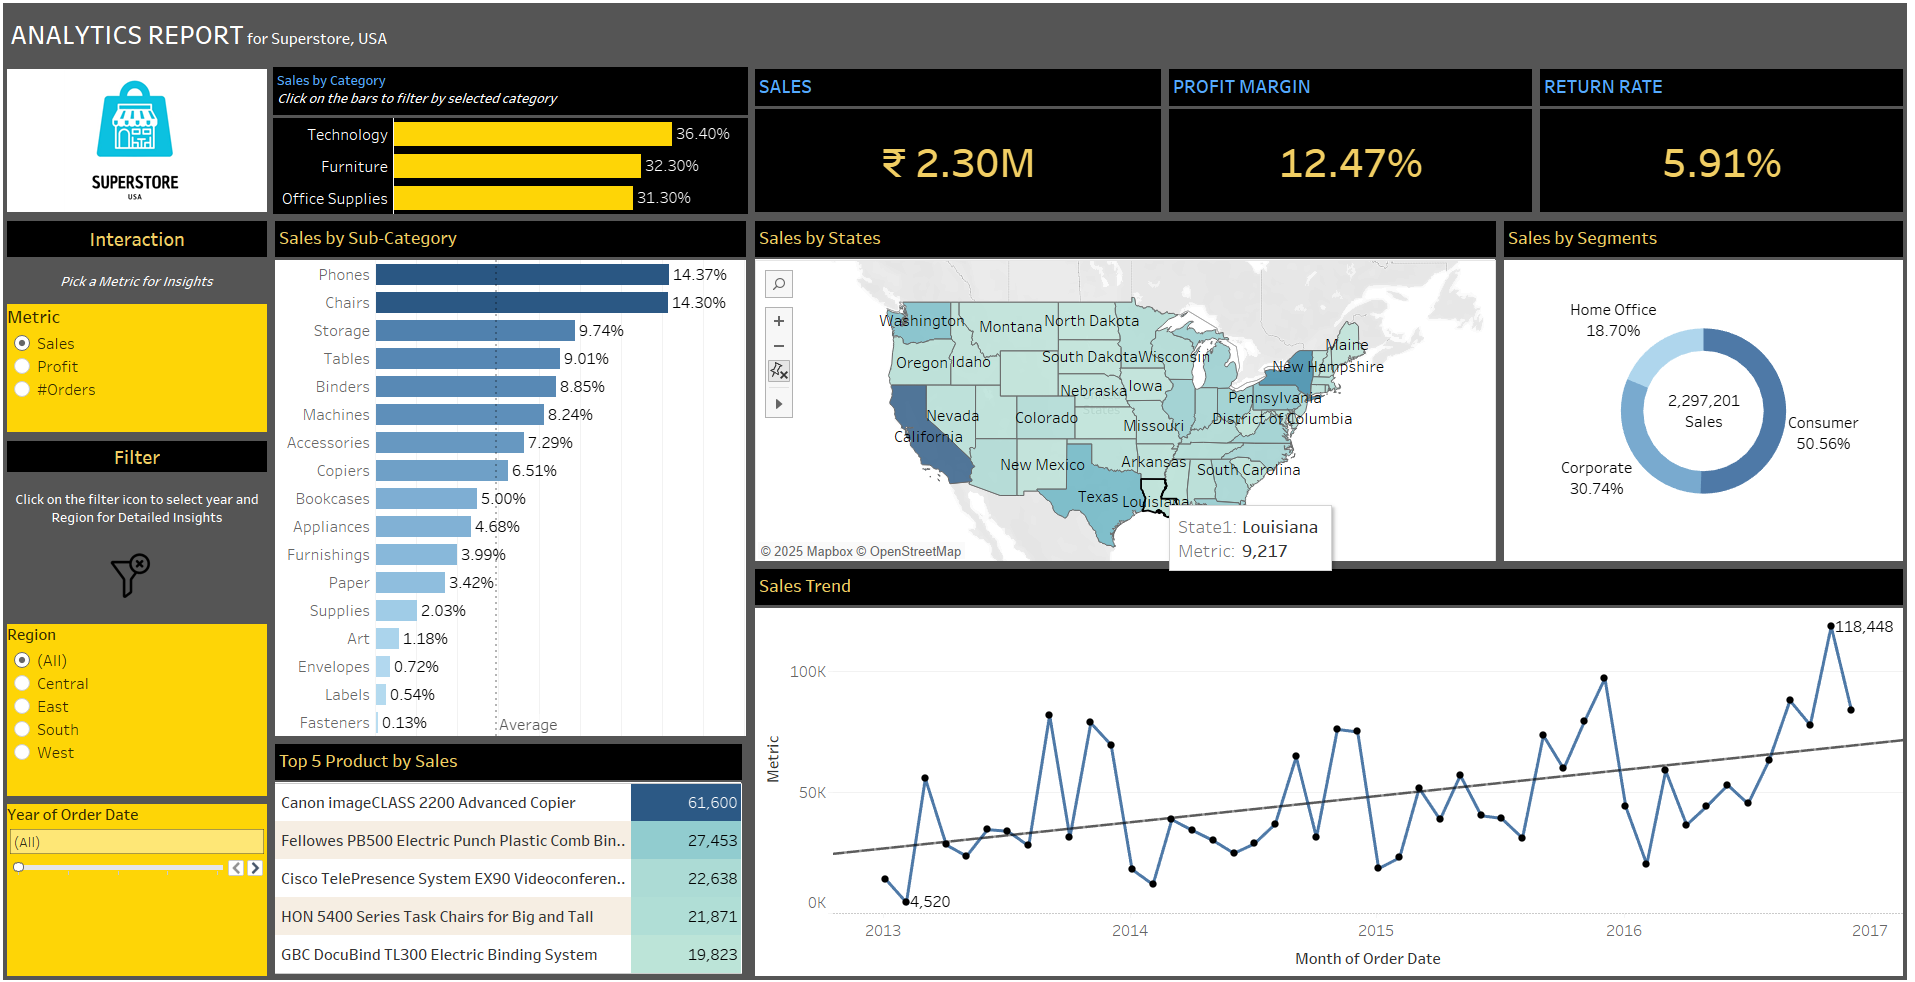

What the dashboard file says about the page in this screenshot:
{"tool":"tableau","page":{"name":"A 7 Dashboard ","canvas":[1000,1000],"units":"permille","ordinal":1},"visuals":[{"type":"text","box":[4.8,9.9,990.3,62.4]},{"type":"image","param":"Image/logo.png","box":[4.8,72.3,139.6,151.9]},{"type":"worksheet","title":"Category","mark":"Automatic","rows":["Category"],"cols":["Calculation_154248330098601988"],"box":[144.4,72.3,249.2,151.9]},{"type":"worksheet","title":"Total-sales","mark":"Text","box":[393.7,72.3,215.6,151.9]},{"type":"worksheet","title":"profit-margin","mark":"Automatic","box":[609.2,72.3,192.9,151.9]},{"type":"worksheet","title":"Return rate","mark":"Automatic","box":[802.1,72.3,193,151.9]},{"type":"text","box":[4.8,224.2,139.5,44.6]},{"type":"worksheet","title":"Sub-Category","mark":"Automatic","rows":["Sub-Category"],"box":[144.4,224.2,249.3,525.2]},{"type":"worksheet","title":"A 7 Map","mark":"Automatic","box":[393.7,224.2,389.8,349.7]},{"type":"worksheet","title":"A 7 Donat","mark":"Pie","rows":["Calculation_154248330088869888","Calculation_154248330088869888"],"box":[783.5,224.2,211.7,349.7]},{"type":"text","box":[4.8,268.8,139.5,39.5]},{"type":"parameter","param":"[Parameters].[Parameter 2]","box":[4.8,308.2,139.5,136.9]},{"type":"text","box":[4.8,445.1,139.5,39.5]},{"type":"text","box":[4.8,484.6,139.5,64.1]},{"type":"dashboard-object","box":[38.6,546.2,67.6,86.3]},{"type":"worksheet","title":"A 7 linechart","mark":"Line","rows":["Sales","Sales"],"cols":["Order Date"],"box":[393.7,573.9,601.5,416.2]},{"type":"filter","title":"A 7 Map","param":"[federated.1at3x561rd9ihd185l8m20e6tf73].[none:Region:nk]","box":[4.8,628.9,139.2,181.3]},{"type":"worksheet","title":"Top 5 product","mark":"Square","rows":["Product Name"],"box":[144.4,749.4,249.3,240.8]},{"type":"filter","title":"A 7 Map","param":"[federated.1at3x561rd9ihd185l8m20e6tf73].[none:Calculation_405042535065518084:ok","box":[4.8,810.1,139.2,180]}]}

Visuals, with their boxes on the dashboard's canvas, which has no fixed pixel size, in thousandths of its width and height (x1, y1, x2, y2). These are canvas units, not pixel positions in the 1915x982 screenshot, which may show the page scaled, cropped or inside an application window:
text: [5, 10, 995, 72]
image: [5, 72, 144, 224]
"Category" worksheet: [144, 72, 394, 224]
"Total-sales" worksheet (Text marks): [394, 72, 609, 224]
"profit-margin" worksheet: [609, 72, 802, 224]
"Return rate" worksheet: [802, 72, 995, 224]
text: [5, 224, 144, 269]
"Sub-Category" worksheet: [144, 224, 394, 749]
"A 7 Map" worksheet: [394, 224, 784, 574]
"A 7 Donat" worksheet (Pie marks): [784, 224, 995, 574]
text: [5, 269, 144, 308]
parameter: [5, 308, 144, 445]
text: [5, 445, 144, 485]
text: [5, 485, 144, 549]
dashboard-object: [39, 546, 106, 632]
"A 7 linechart" worksheet (Line marks): [394, 574, 995, 990]
"A 7 Map" filter: [5, 629, 144, 810]
"Top 5 product" worksheet (Square marks): [144, 749, 394, 990]
"A 7 Map" filter: [5, 810, 144, 990]
